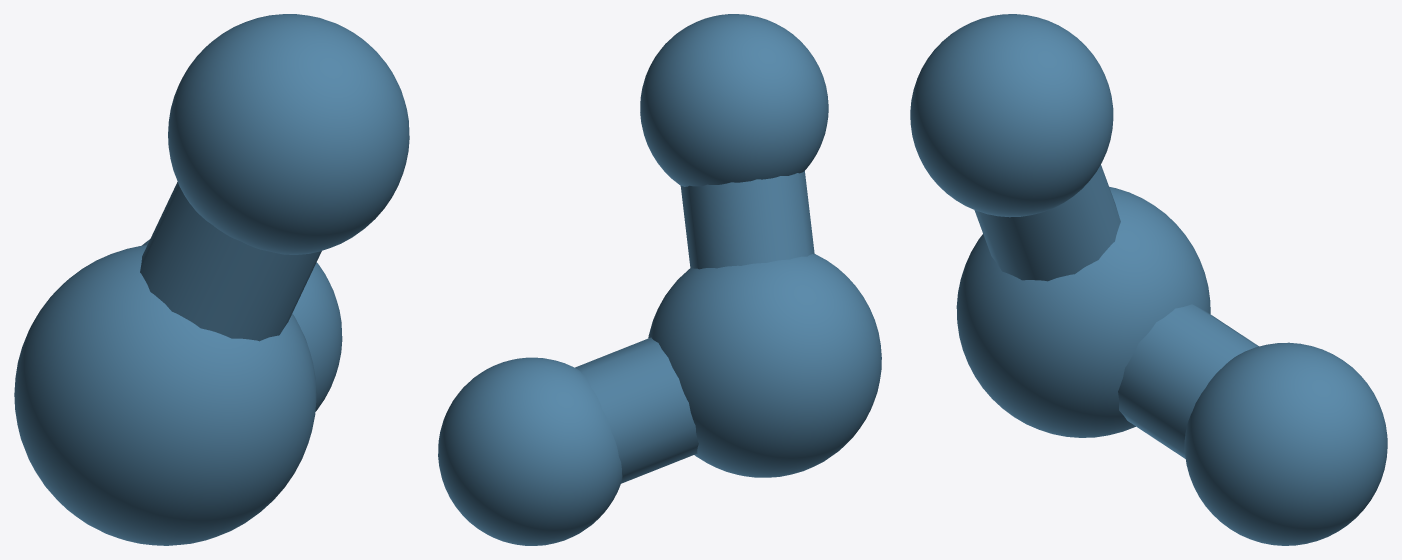
File: 962-bas-print_NIH3D.glb
3 renders of one model, left to right at view 1: azimuth 30°, elevation 25°; view 2: azimuth 150°, elevation 25°; view 3: azimuth 270°, elevation 25°, orthographic. The views are drawn at different scales.
Parts seen in each view (by area): view 1: atoms, bonds; view 2: atoms, bonds; view 3: atoms, bonds.
Boxes of the visible parts, box(x1,y1,x2,y2) form: atoms: box(14, 14, 409, 545); bonds: box(140, 182, 321, 341); atoms: box(438, 14, 881, 545); bonds: box(575, 171, 814, 483); atoms: box(910, 14, 1387, 545); bonds: box(974, 164, 1258, 458).
Bounding box in the file's own units: 1.42 × 1.85 × 1.69.
